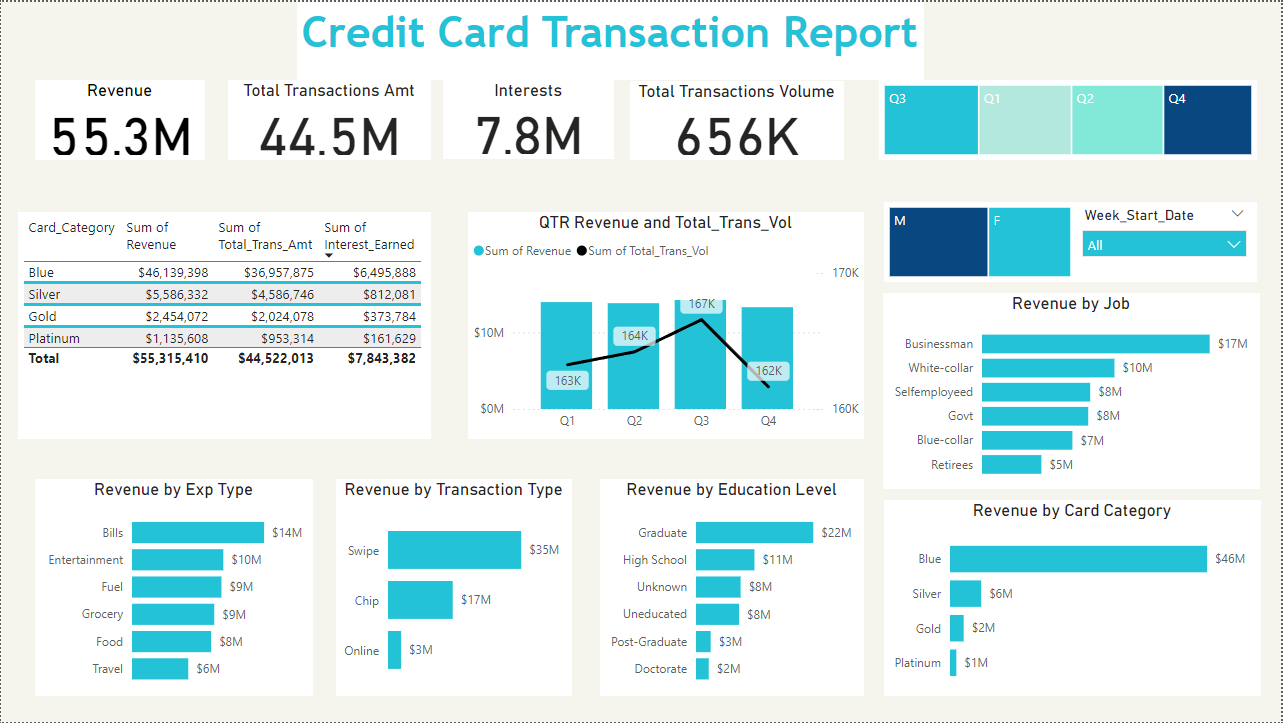

Layout of this report page (visuals, bound fields, positions):
{"tool":"powerbi","page":{"name":"CC Transaction Report","canvas":[1280,720],"ordinal":1},"visuals":[{"type":"textbox","box":[296.3,0,626.9,77.6],"z":0},{"type":"lineStackedColumnComboChart","title":"QTR Revenue and Total_Trans_Vol ","fields":{"Category":["credit_card_LS.Qtr"],"Y":["Sum(credit_card_LS.Revenue)"],"Y2":["Sum(credit_card_LS.Total_Trans_Vol)"]},"box":[466.6,209.6,396.1,227.8],"z":1000},{"type":"barChart","title":"Revenue by Exp Type","fields":{"Y":["Sum(credit_card_LS.Revenue)"],"Category":["credit_card_LS.Exp Type"]},"box":[34.3,476.7,278.2,217.7],"z":2000},{"type":"barChart","title":"Revenue by Education Level","fields":{"Y":["Sum(credit_card_LS.Revenue)"],"Category":["customer.Education_Level"]},"box":[598.7,476.7,264.1,217.7],"z":3000},{"type":"barChart","title":"Revenue by Job","fields":{"Y":["Sum(credit_card_LS.Revenue)"],"Category":["customer.Customer_Job"]},"box":[881.9,291.3,376.9,195.5],"z":4000},{"type":"barChart","title":"Revenue by Card Category","fields":{"Y":["Sum(credit_card_LS.Revenue)"],"Category":["credit_card_LS.Card_Category"]},"box":[882.9,497.9,376.9,196.5],"z":5000},{"type":"barChart","title":"Revenue by Transaction Type","fields":{"Y":["Sum(credit_card_LS.Revenue)"],"Category":["credit_card_LS.Use Chip"]},"box":[334.6,476.7,236.9,217.7],"z":6000},{"type":"tableEx","fields":{"Values":["credit_card_LS.Card_Category","Sum(credit_card_LS.Revenue)","Sum(credit_card_LS.Total_Trans_Amt)","Sum(credit_card_LS.Interest_Earned)"]},"box":[17,209.6,412.8,227.5],"z":7000},{"type":"card","title":"Revenue","fields":{"Values":["Sum(credit_card_LS.Revenue)"]},"box":[34,77.9,170,80],"z":8000},{"type":"card","title":"Total Transactions Amt","fields":{"Values":["Sum(credit_card_LS.Total_Trans_Amt)"]},"box":[226.8,77.6,203.6,80.6],"z":9000},{"type":"card","title":"Interests","fields":{"Values":["Sum(credit_card_LS.Interest_Earned)"]},"box":[442.5,77.6,170.3,79.6],"z":10000},{"type":"card","title":"Total Transactions Volume","fields":{"Values":["Sum(credit_card_LS.Total_Trans_Vol)"]},"box":[628.9,78.6,213.7,79.6],"z":11000},{"type":"slicer","fields":{"Values":["credit_card_LS.Week_Start_Date"]},"box":[1071.4,199.6,184.4,80.6],"z":12000},{"type":"treemap","fields":{"Group":["credit_card_LS.Qtr"],"Values":["Sum(credit_card_LS.Revenue)"]},"box":[877.7,77.6,378.2,80.9],"z":13000},{"type":"treemap","fields":{"Group":["customer.Gender"],"Values":["Sum(credit_card_LS.Revenue)"]},"box":[882.9,199.6,192.5,80.6],"z":14000}]}

Visuals, with their boxes in screenshot pixels (x1, y1, x2, y2), scaled from the page's 1280x720 canvas onto the 1283x723 screenshot:
textbox: box=[297, 0, 925, 78]
"QTR Revenue and Total_Trans_Vol " lineStackedColumnComboChart: box=[468, 210, 865, 439]
"Revenue by Exp Type" barChart: box=[34, 479, 313, 697]
"Revenue by Education Level" barChart: box=[600, 479, 865, 697]
"Revenue by Job" barChart: box=[884, 293, 1262, 489]
"Revenue by Card Category" barChart: box=[885, 500, 1263, 697]
"Revenue by Transaction Type" barChart: box=[335, 479, 573, 697]
tableEx - credit_card_LS.Card_Category x Sum(credit_card_LS.Revenue): box=[17, 210, 431, 439]
"Revenue" card: box=[34, 78, 204, 159]
"Total Transactions Amt" card: box=[227, 78, 431, 159]
"Interests" card: box=[444, 78, 614, 158]
"Total Transactions Volume" card: box=[630, 79, 845, 159]
slicer - credit_card_LS.Week_Start_Date: box=[1074, 200, 1259, 281]
treemap - credit_card_LS.Qtr x Sum(credit_card_LS.Revenue): box=[880, 78, 1259, 159]
treemap - customer.Gender x Sum(credit_card_LS.Revenue): box=[885, 200, 1078, 281]
